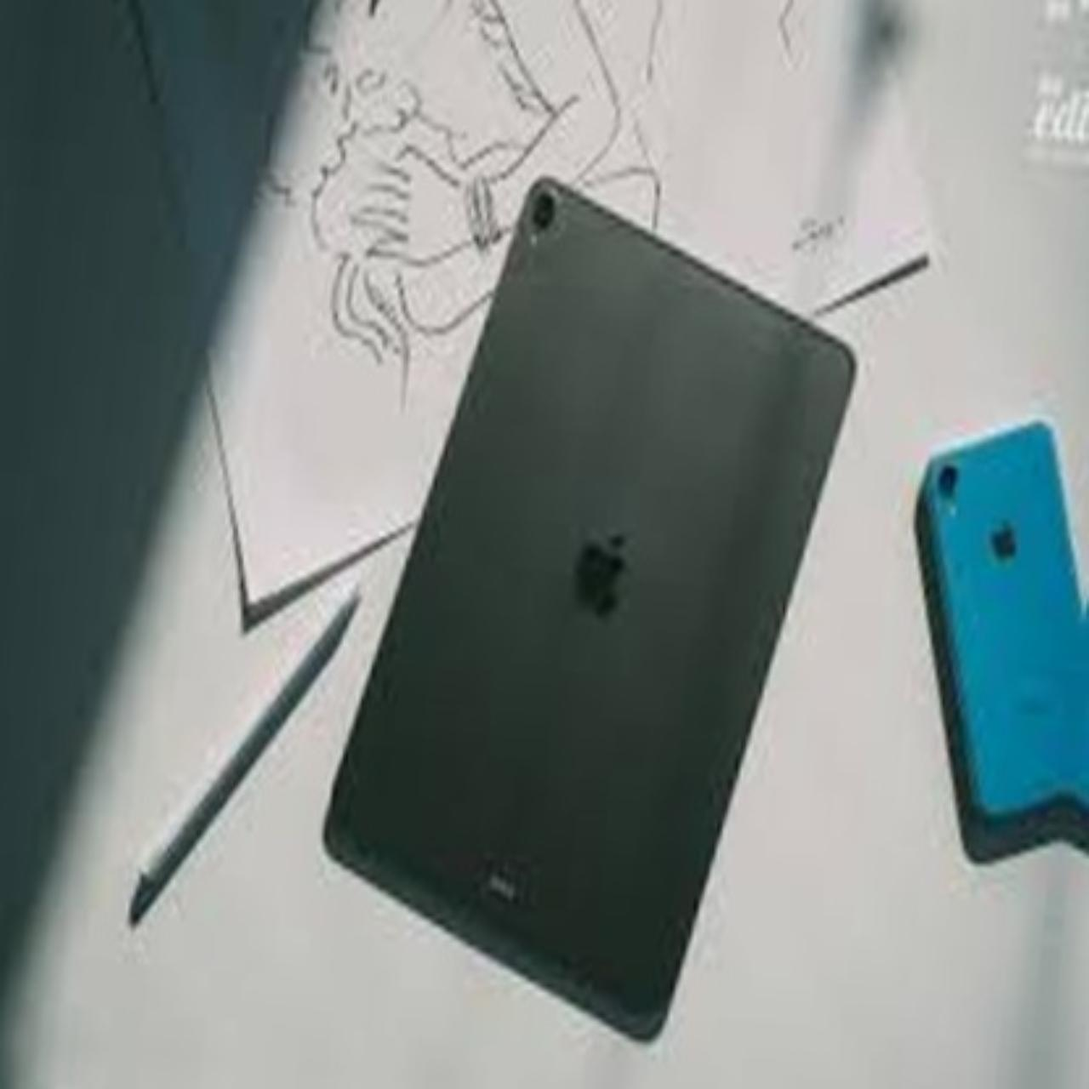Tablet_PC: (296, 153, 892, 1082)
